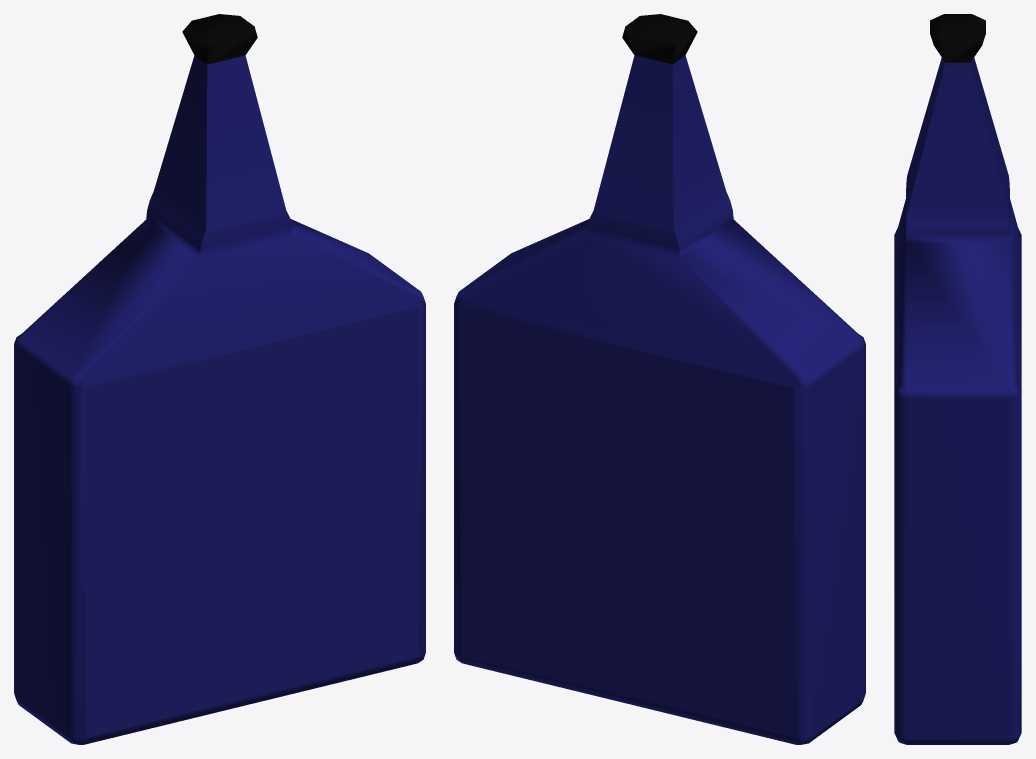
File: tequila.fbx
3 renders of one model, left to right at view 1: azimuth 30°, elevation 25°; view 2: azimuth 150°, elevation 25°; view 3: azimuth 270°, elevation 25°, orthographic. The views are drawn at different scales.
Visible parts, largest first — view 1: pCube1; view 2: pCube1; view 3: pCube1.
Part boxes in pixels (bbox=[...]): pCube1: bbox=[14, 14, 425, 744]; pCube1: bbox=[454, 14, 865, 744]; pCube1: bbox=[894, 14, 1021, 744].
Size of the model in its own units: 1 by 1.76 by 0.3181.
